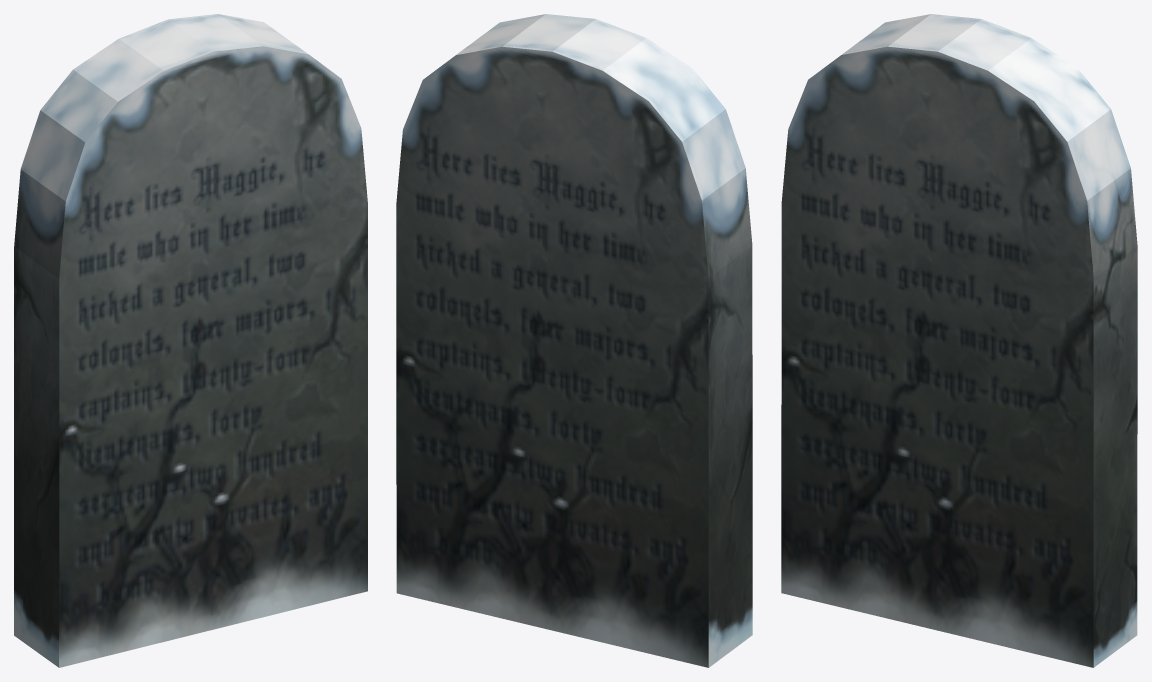
The model's file is 3-1_mubei3.FBX.
The picture shows the model from 3 angles, left to right: view 1: azimuth 30°, elevation 25°; view 2: azimuth 150°, elevation 25°; view 3: azimuth 330°, elevation 25°; orthographic projection.
Parts seen in each view (by area): view 1: 3-1_mubei3; view 2: 3-1_mubei3; view 3: 3-1_mubei3.
Part boxes in pixels (x1=…): 3-1_mubei3: x1=14, y1=14, x2=367, y2=667; 3-1_mubei3: x1=396, y1=14, x2=752, y2=667; 3-1_mubei3: x1=781, y1=14, x2=1137, y2=667.
Bounding box in the file's own units: 97.34 × 173 × 24.92.
